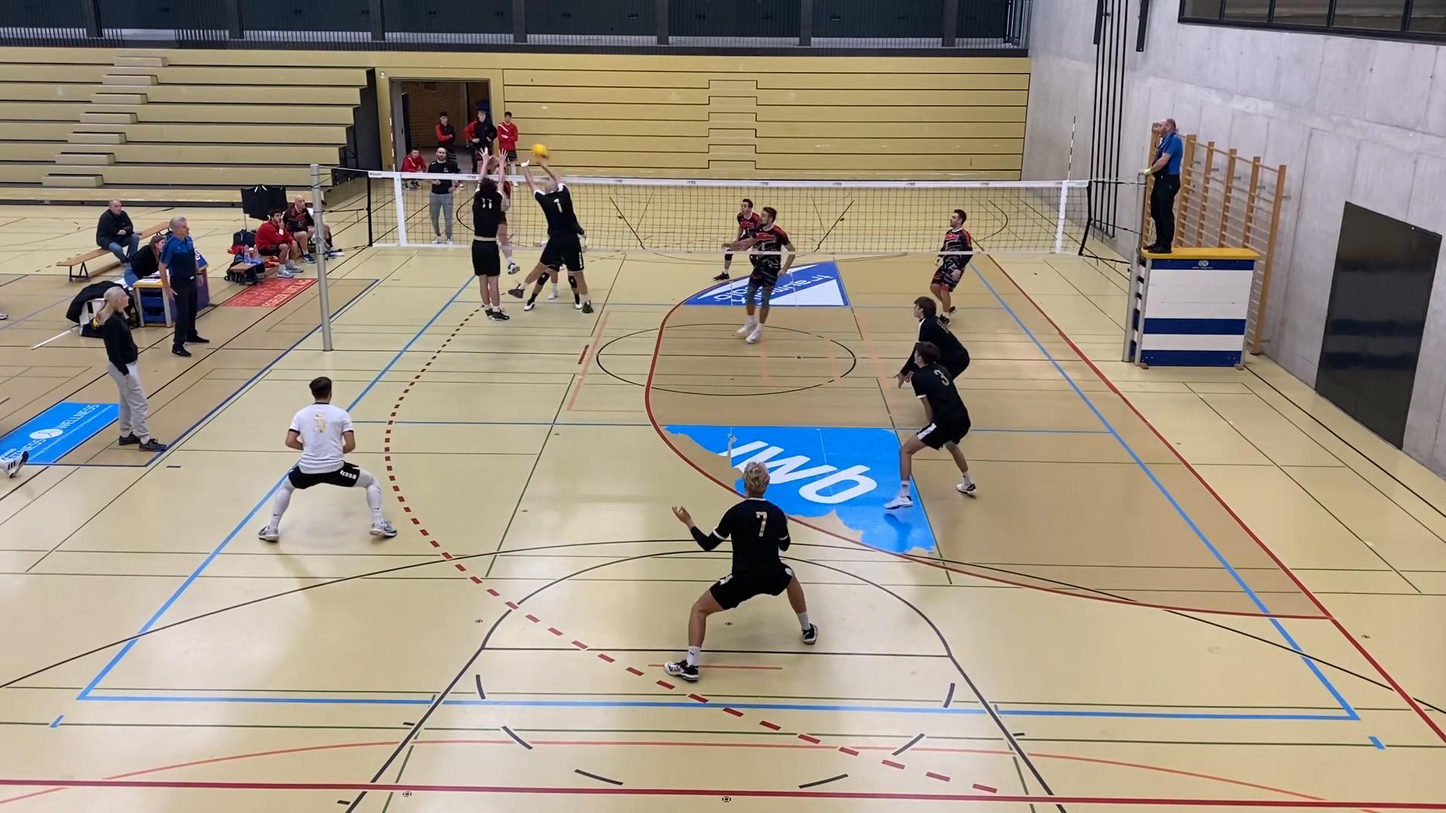attacco: (487, 157, 526, 267)
muro: (507, 156, 592, 312), (470, 148, 509, 320)
